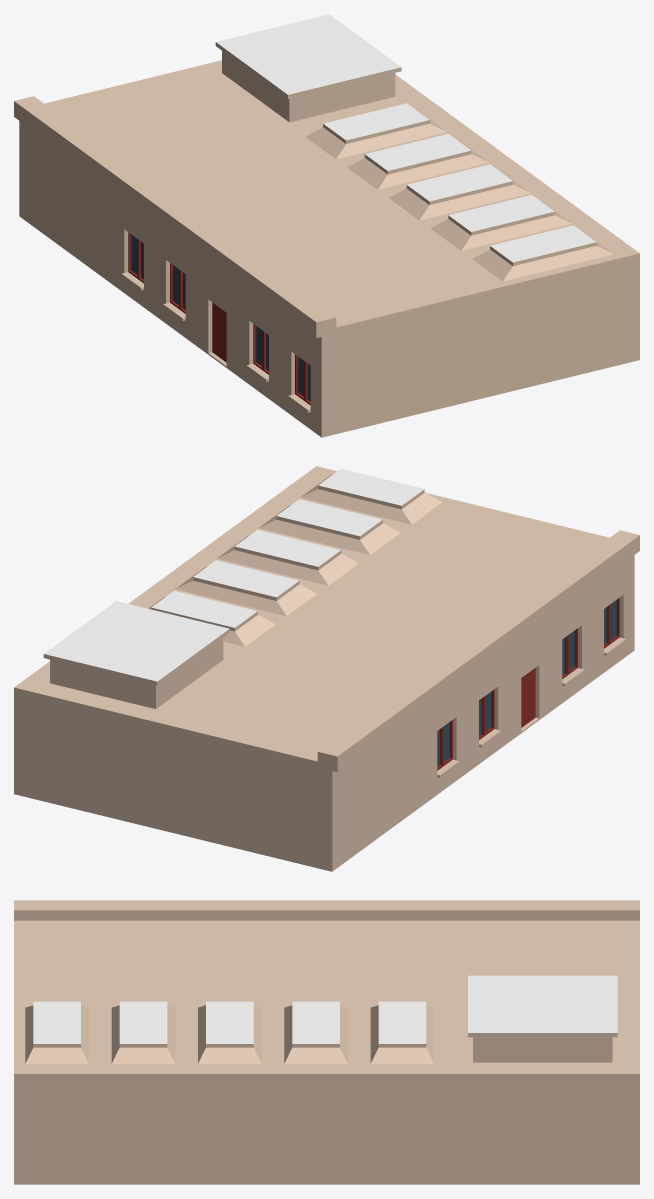
The model's file is Edificio_junto_panel_d.fbx.
3 renders of one model, top to bottom at view 1: azimuth 30°, elevation 25°; view 2: azimuth 150°, elevation 25°; view 3: azimuth 270°, elevation 25°, orthographic. The views are drawn at different scales.
Visible parts, largest first — view 1: Edificio_junto_panel-d; view 2: Edificio_junto_panel-d; view 3: Edificio_junto_panel-d.
Boxes of the visible parts, x1,y1,x2,y2 form: Edificio_junto_panel-d: (14, 14, 639, 437); Edificio_junto_panel-d: (14, 466, 639, 871); Edificio_junto_panel-d: (14, 900, 639, 1184).
Size of the model in its own units: 1781 by 721 by 2883.
